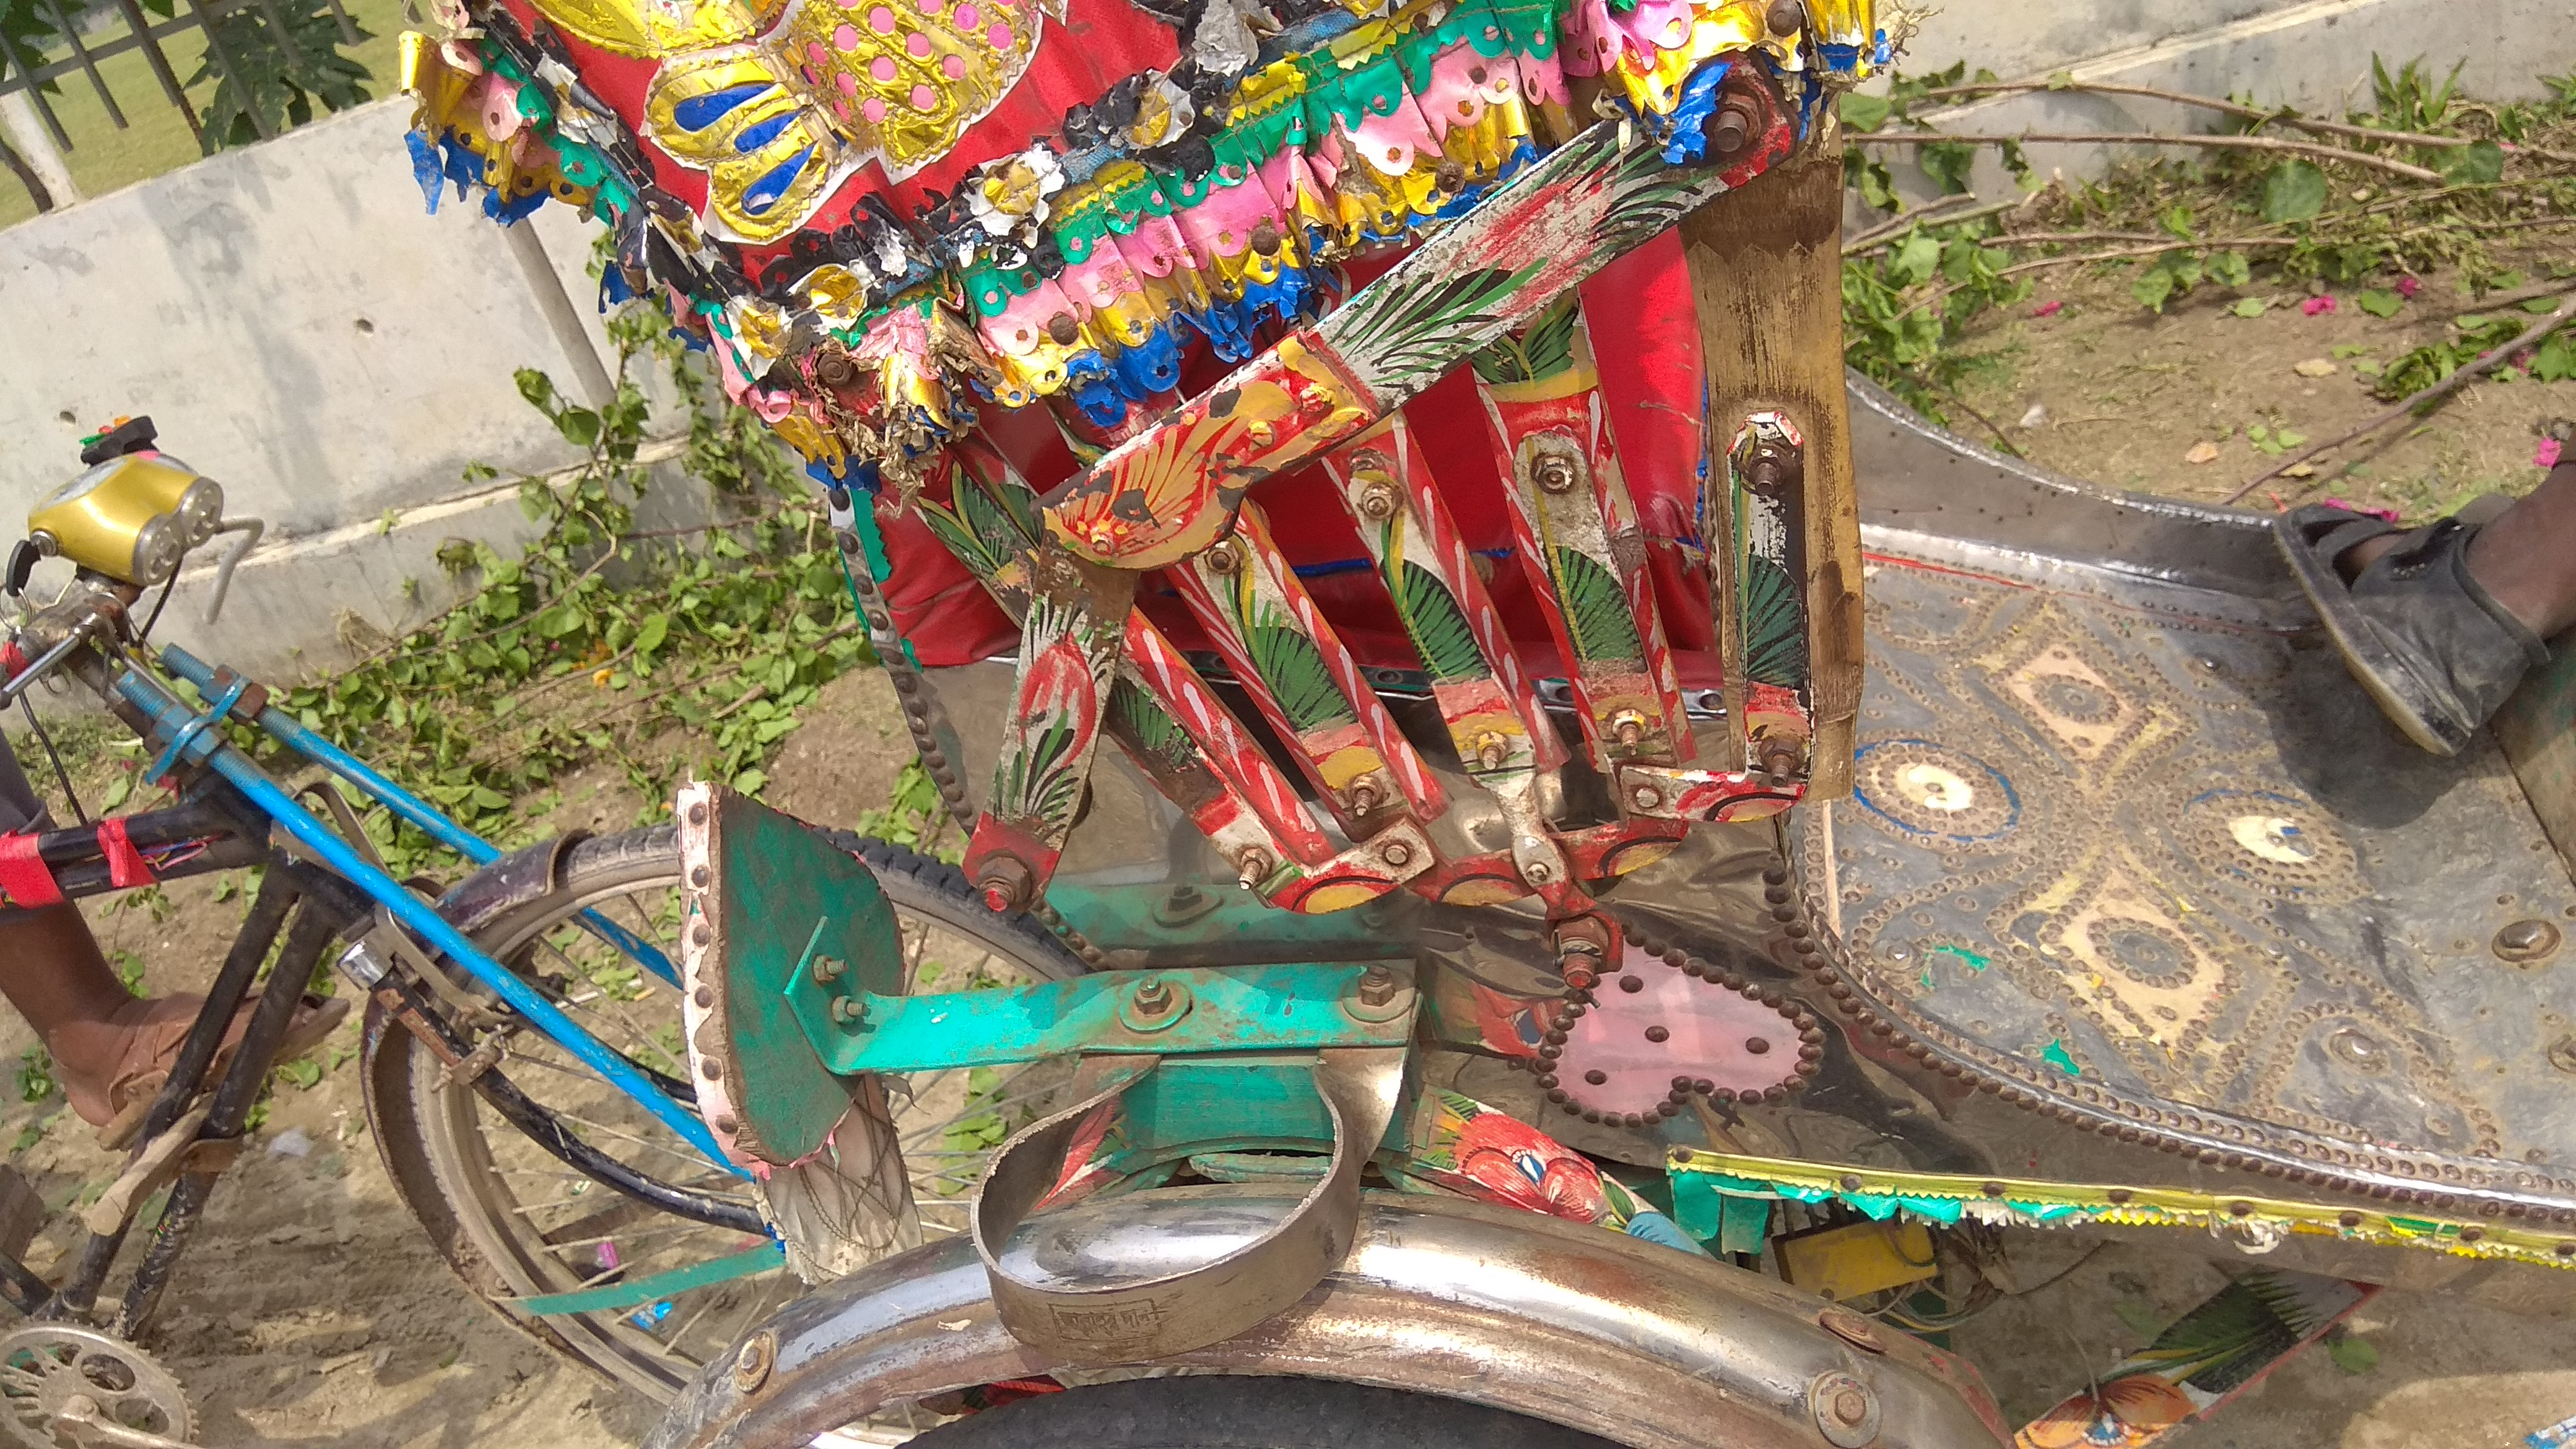Rickshaw: (396, 2, 2548, 1440), (7, 398, 1150, 1401)
